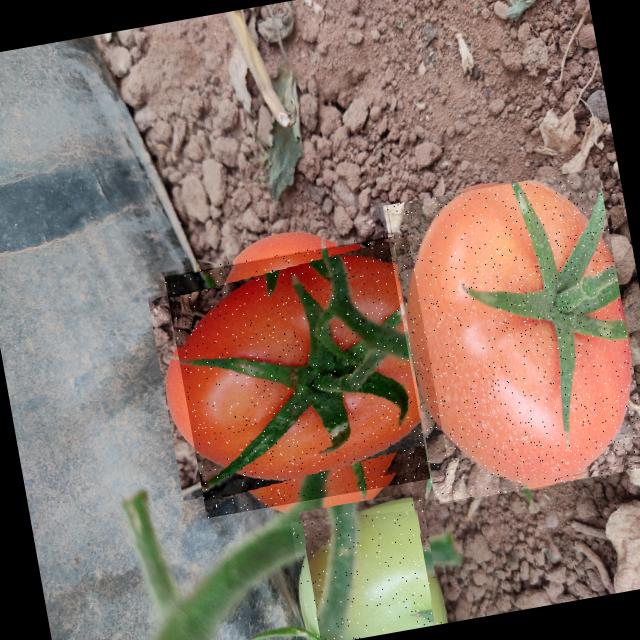Ripe Tomato: (382, 167, 640, 504), (163, 230, 450, 517)
Unripe Tomato: (289, 499, 443, 640)
